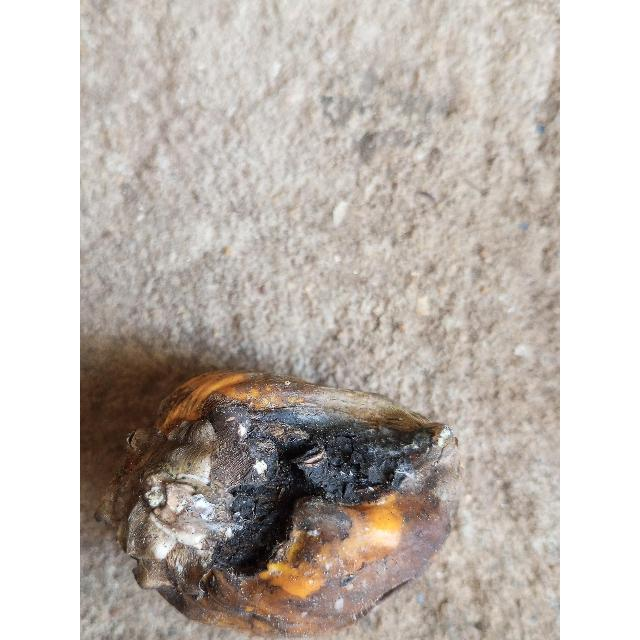damaged: (97, 372, 459, 634)
